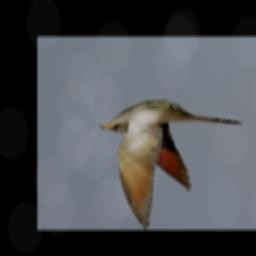Cuckoo: (99, 101, 242, 229)
